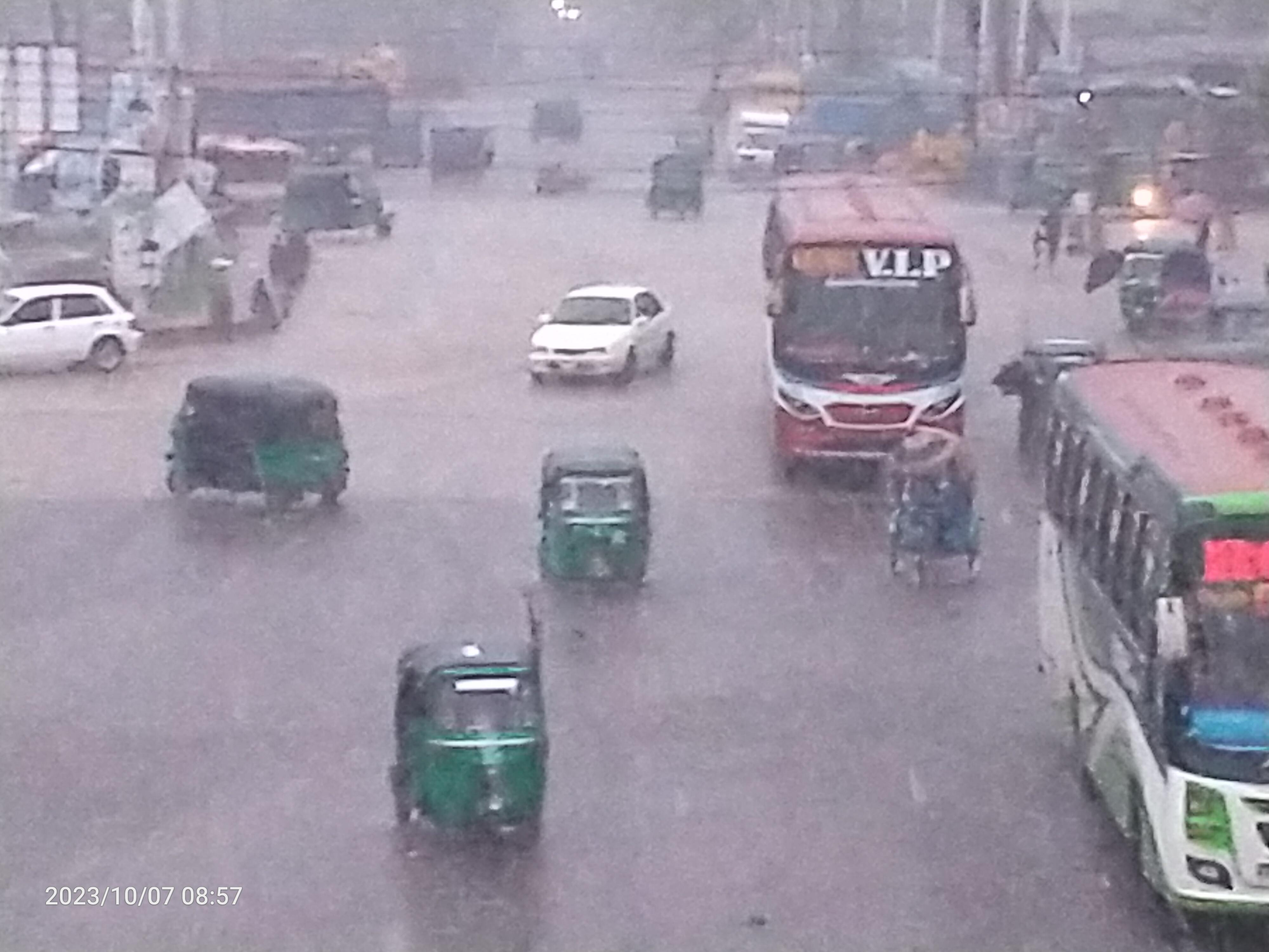Bus: (1017, 340, 1269, 934), (748, 160, 979, 495)
Car: (476, 264, 708, 417), (0, 254, 201, 408), (867, 415, 983, 612), (722, 95, 805, 187)
